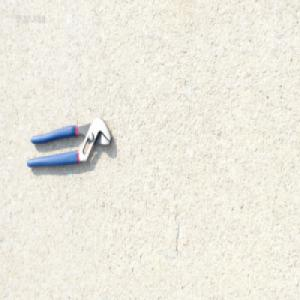Pliers: (24, 114, 111, 171)
